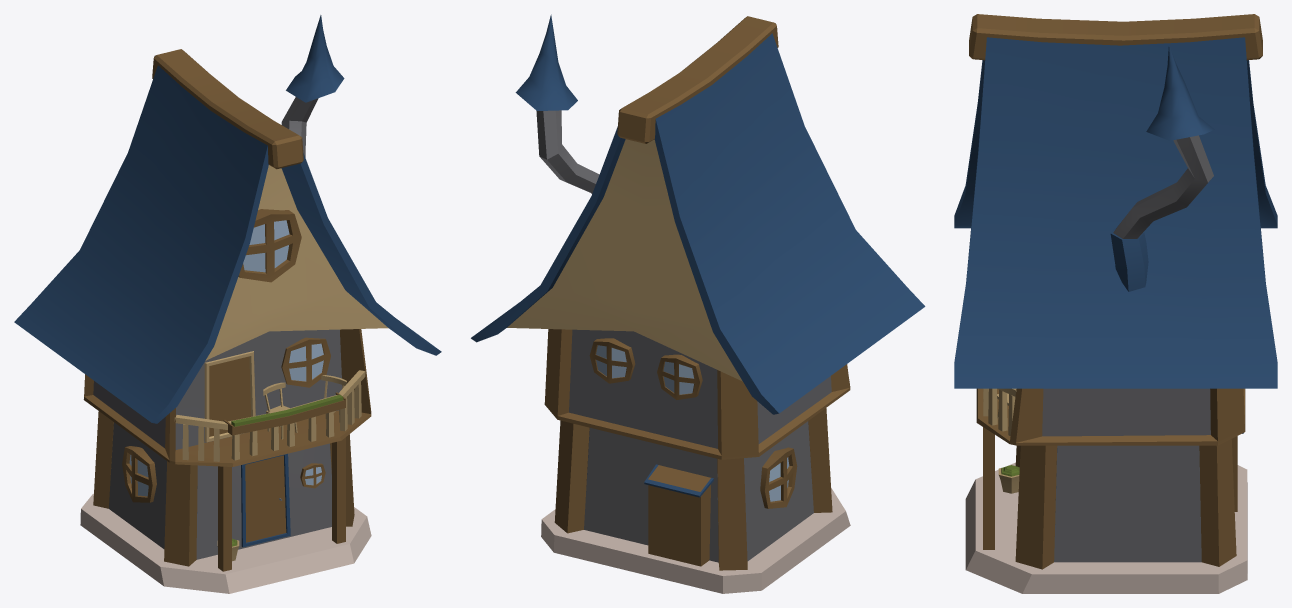
Rendered from House_v1.fbx.
3 views of the same model, side by side, from view 1: azimuth 30°, elevation 25°; view 2: azimuth 150°, elevation 25°; view 3: azimuth 270°, elevation 25° (orthographic). The views are drawn at different scales.
Parts seen in each view (by area): view 1: HouseMerged; view 2: HouseMerged; view 3: HouseMerged.
Boxes of the visible parts, box(x1,y1,x2,y2) form: HouseMerged: box(14, 15, 441, 593); HouseMerged: box(471, 14, 925, 593); HouseMerged: box(954, 14, 1277, 593).
Size of the model in its own units: 8.38 by 13.05 by 6.87.
